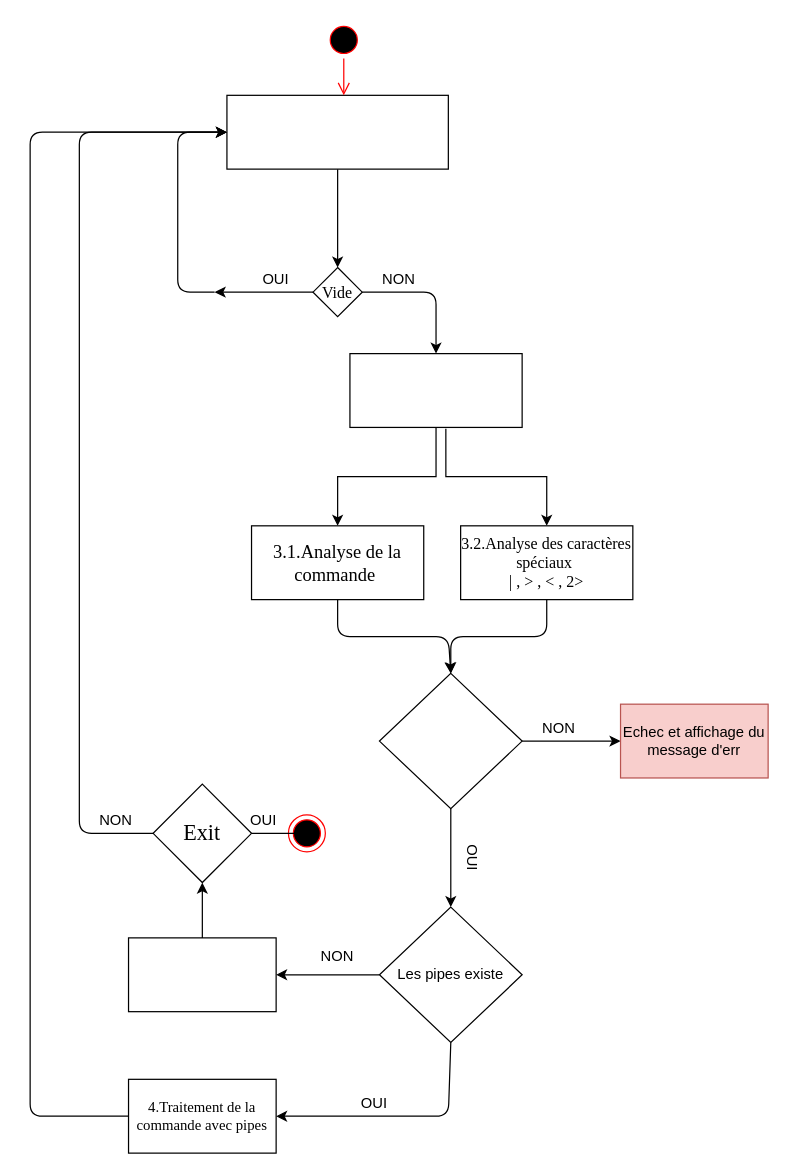
Some shapes in this 790 by 1175 pixel diagram are drawn without their labels. Here are the shapes that lost their labels. From the top down, the box of each, then its label:
(226, 94, 448, 169): 1. Saisie de la commande
(349, 352, 522, 427): 2.Garder La commande dans l'historique des commandes
(378, 672, 522, 809): La commande existe dans le shell
(127, 937, 276, 1012): 4.Traitement de la commande sans pipes
